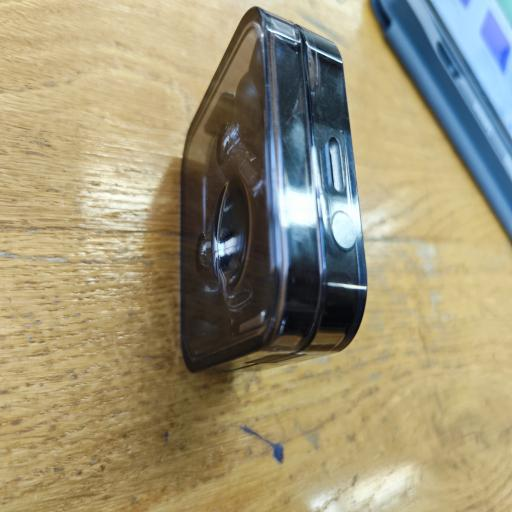CASTI: (174, 0, 373, 384)
